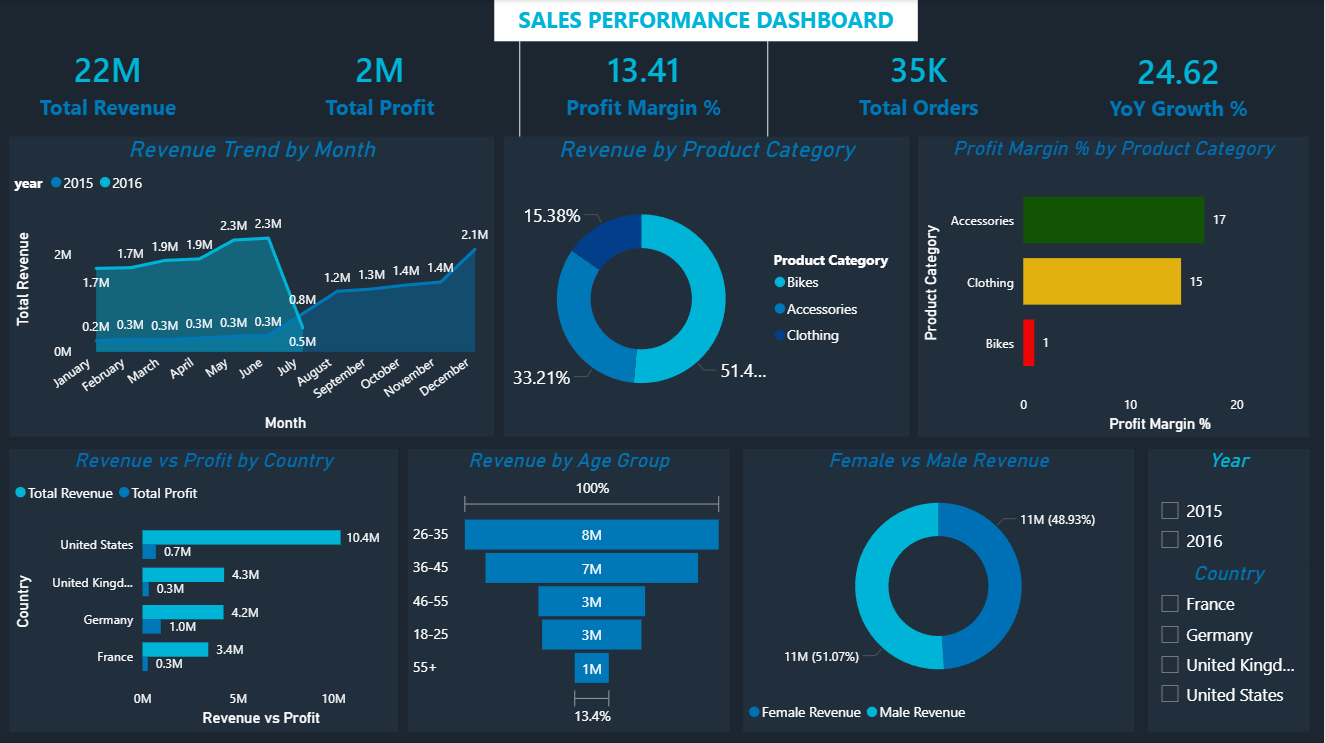

The page's visual inventory and layout, read from the dashboard file:
{"tool":"powerbi","page":{"name":"Page 1","canvas":[1280,720],"ordinal":0},"visuals":[{"type":"cardVisual","fields":{"Data":["sales_cleaned.Total Revenue"]},"box":[0,30.2,212.3,102.5],"z":0},{"type":"cardVisual","fields":{"Data":["sales_cleaned.Total Profit"]},"box":[263,30.2,211.1,102.5],"z":1000},{"type":"cardVisual","fields":{"Data":["sales_cleaned.Profit Margin %"]},"box":[503.1,25.3,240.1,112.2],"z":2000},{"type":"cardVisual","fields":{"Data":["sales_cleaned.Total Orders"]},"box":[783,30.2,211.1,102.5],"z":3000},{"type":"areaChart","title":"Revenue Trend by Month","fields":{"Y":["sales_cleaned.Total Revenue"],"Series":["sales_cleaned.year"],"Category":["sales_cleaned.date.Variation.Date Hierarchy.Month"]},"box":[10.9,132.7,468.1,289.5],"z":4000},{"type":"donutChart","title":" Revenue by Product Category","fields":{"Category":["sales_cleaned.product_category"],"Y":["sales_cleaned.Total Revenue"]},"box":[488.6,132.7,390.9,289.5],"z":5000},{"type":"funnel","title":"Revenue by Age Group","fields":{"Category":["sales_cleaned.age_group"],"Y":["sales_cleaned.Total Revenue"]},"box":[395.7,434.3,310.1,272.7],"z":6000},{"type":"slicer","title":"Year","fields":{"Values":["sales_cleaned.year"]},"box":[1109.9,434.3,155.6,108.6],"z":7000},{"type":"slicer","title":"Country","fields":{"Values":["sales_cleaned.country"]},"box":[1109.9,542.9,155.6,164.1],"z":8000},{"type":"clusteredBarChart","title":"Profit Margin % by Product Category","fields":{"Category":["sales_cleaned.product_category"],"Y":["sales_cleaned.Profit Margin %"]},"box":[887.9,132.7,377.6,290.8],"z":9000},{"type":"clusteredBarChart","title":" Revenue vs Profit by Country","fields":{"Category":["sales_cleaned.country"],"Y":["sales_cleaned.Total Revenue","sales_cleaned.Total Profit"]},"box":[10.9,434.3,375.2,272.7],"z":10000},{"type":"donutChart","title":"Female vs Male Revenue","fields":{"Y":["sales_cleaned.Female Revenue","sales_cleaned.Male Revenue"]},"box":[719,434.3,377.6,272.7],"z":10001},{"type":"cardVisual","fields":{"Data":["sales_cleaned.YoY Growth %"]},"box":[1033.9,31.4,211.1,102.5],"z":10002},{"type":"textbox","box":[479,0,409,41],"z":10003}]}

Visuals, with their boxes in screenshot pixels (x1, y1, x2, y2), scaled from the page's 1280x720 canvas onto the 1325x743 screenshot:
cardVisual - sales_cleaned.Total Revenue: (x1=0, y1=31, x2=220, y2=137)
cardVisual - sales_cleaned.Total Profit: (x1=272, y1=31, x2=491, y2=137)
cardVisual - sales_cleaned.Profit Margin %: (x1=521, y1=26, x2=769, y2=142)
cardVisual - sales_cleaned.Total Orders: (x1=811, y1=31, x2=1029, y2=137)
"Revenue Trend by Month" areaChart: (x1=11, y1=137, x2=496, y2=436)
" Revenue by Product Category" donutChart: (x1=506, y1=137, x2=910, y2=436)
"Revenue by Age Group" funnel: (x1=410, y1=448, x2=731, y2=730)
"Year" slicer: (x1=1149, y1=448, x2=1310, y2=560)
"Country" slicer: (x1=1149, y1=560, x2=1310, y2=730)
"Profit Margin % by Product Category" clusteredBarChart: (x1=919, y1=137, x2=1310, y2=437)
" Revenue vs Profit by Country" clusteredBarChart: (x1=11, y1=448, x2=400, y2=730)
"Female vs Male Revenue" donutChart: (x1=744, y1=448, x2=1135, y2=730)
cardVisual - sales_cleaned.YoY Growth %: (x1=1070, y1=32, x2=1289, y2=138)
textbox: (x1=496, y1=0, x2=919, y2=42)
